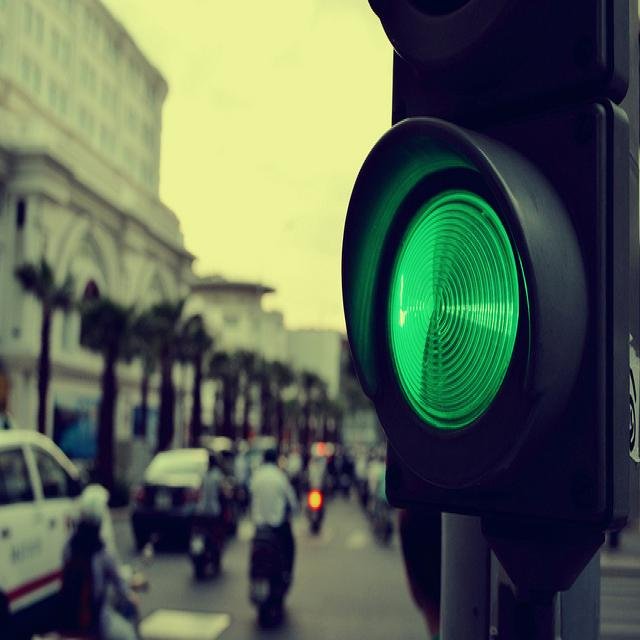motor: (246, 518, 294, 630), (185, 517, 226, 582), (307, 484, 325, 535), (336, 450, 354, 500), (357, 480, 367, 509)
